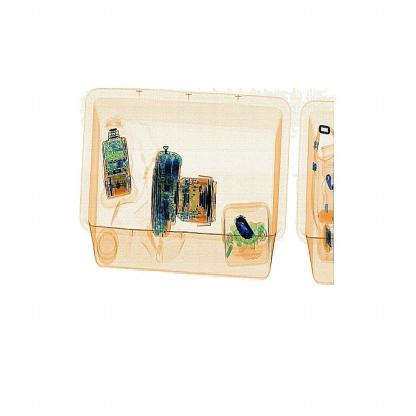scissors: (228, 204, 268, 250)
